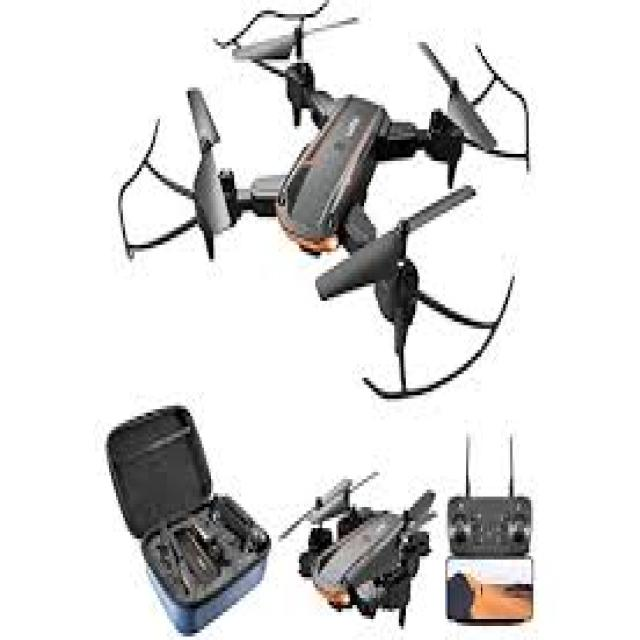drone: (98, 0, 558, 421)
